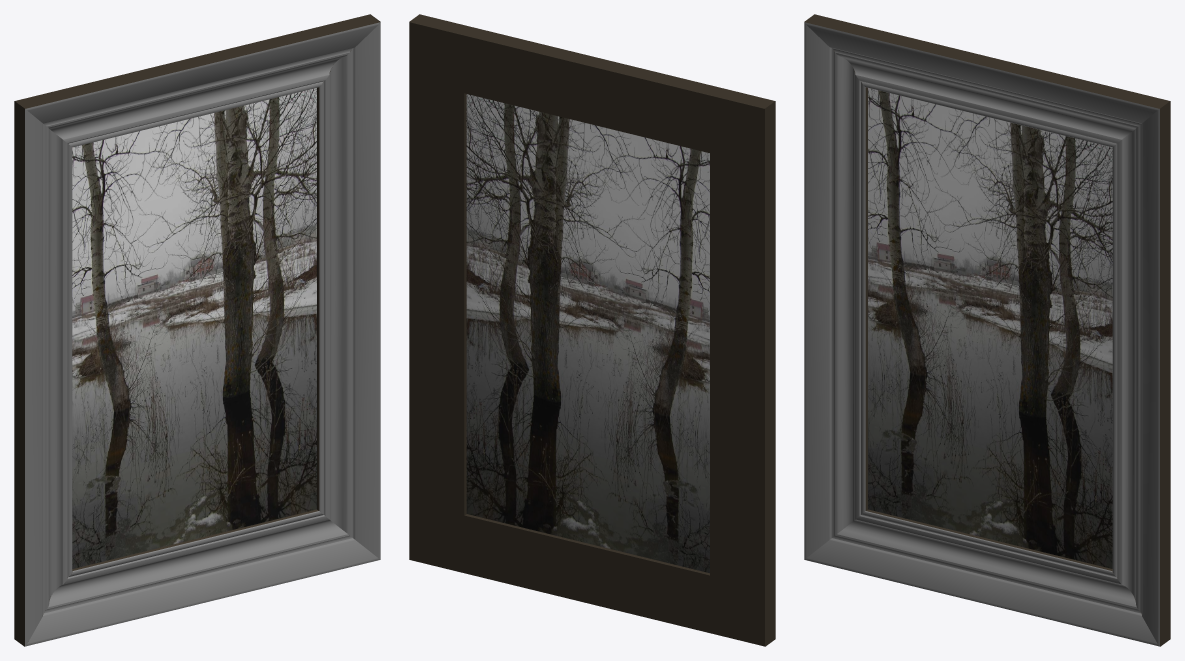
File: guahuaone.FBX
3 renders of one model, left to right at view 1: azimuth 30°, elevation 25°; view 2: azimuth 150°, elevation 25°; view 3: azimuth 330°, elevation 25°, orthographic.
Visible parts, largest first — view 1: 3d侠模型免费下载-画框; view 2: 3d侠模型免费下载-画框; view 3: 3d侠模型免费下载-画框.
Boxes of the visible parts, <box> form: 3d侠模型免费下载-画框: <box>14,14,380,646</box>; 3d侠模型免费下载-画框: <box>409,14,775,646</box>; 3d侠模型免费下载-画框: <box>804,14,1170,646</box>.
Bounding box in the file's own units: 809 × 1169 × 42.56.
